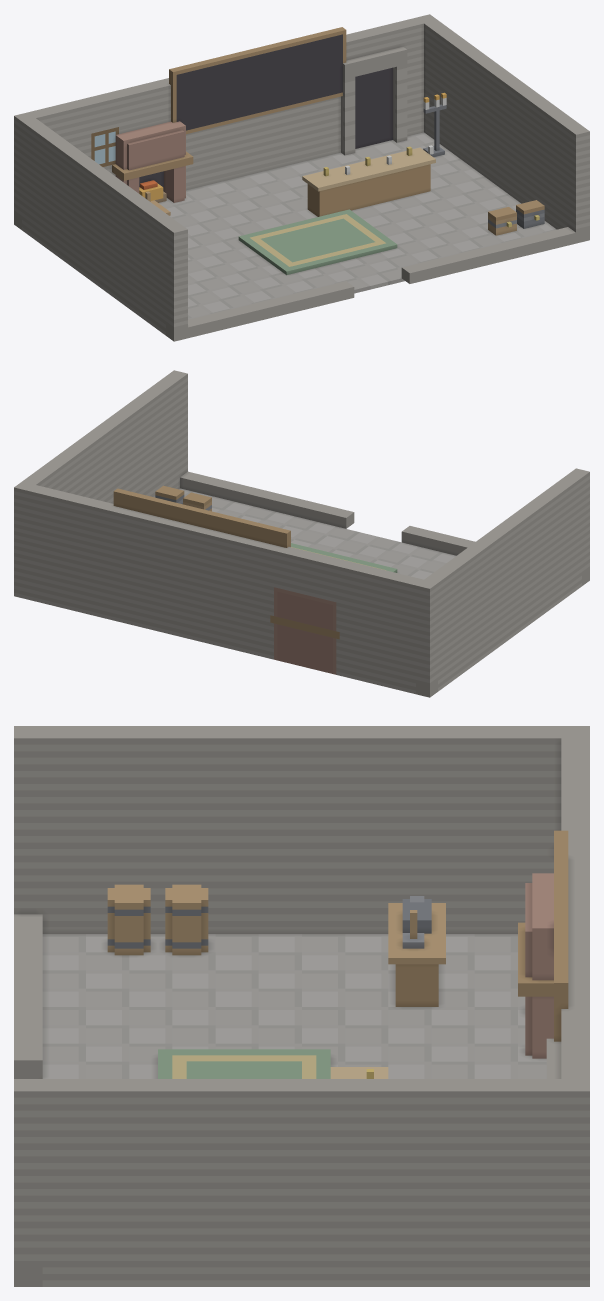
The model's file is piece_armurerie.glb.
3 renders of one model, top to bottom at view 1: azimuth 30°, elevation 25°; view 2: azimuth 150°, elevation 25°; view 3: azimuth 270°, elevation 25°, orthographic. The views are drawn at different scales.
Visible parts, largest first — view 1: geometry_0; view 2: geometry_0; view 3: geometry_0.
Part boxes in pixels (x1=…): geometry_0: x1=14, y1=14, x2=589, y2=341; geometry_0: x1=14, y1=370, x2=589, y2=697; geometry_0: x1=14, y1=726, x2=589, y2=1286.
Size of the model in its own units: 15 by 4.38 by 10.
